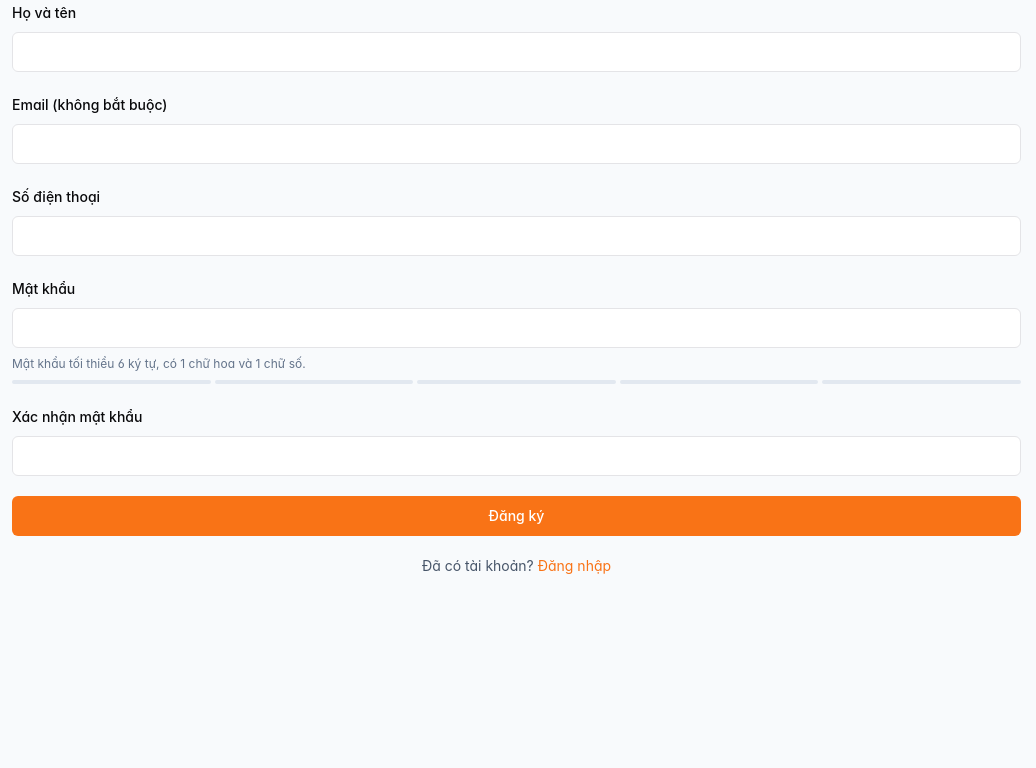
auth forms › shows invalid register phone inline and clears it when corrected
The width and height of the screenshot is (1036, 768).
In the field labelled "Số điện thoại": (516, 236) [12,216,1021,256], type "123"
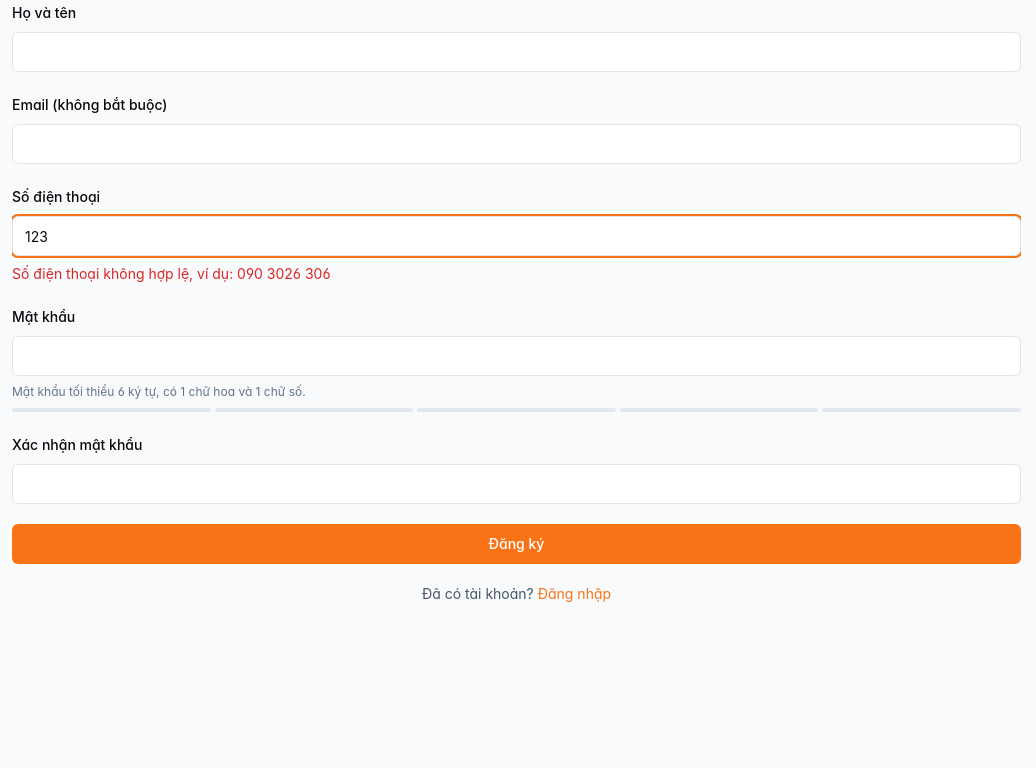
Press Tab
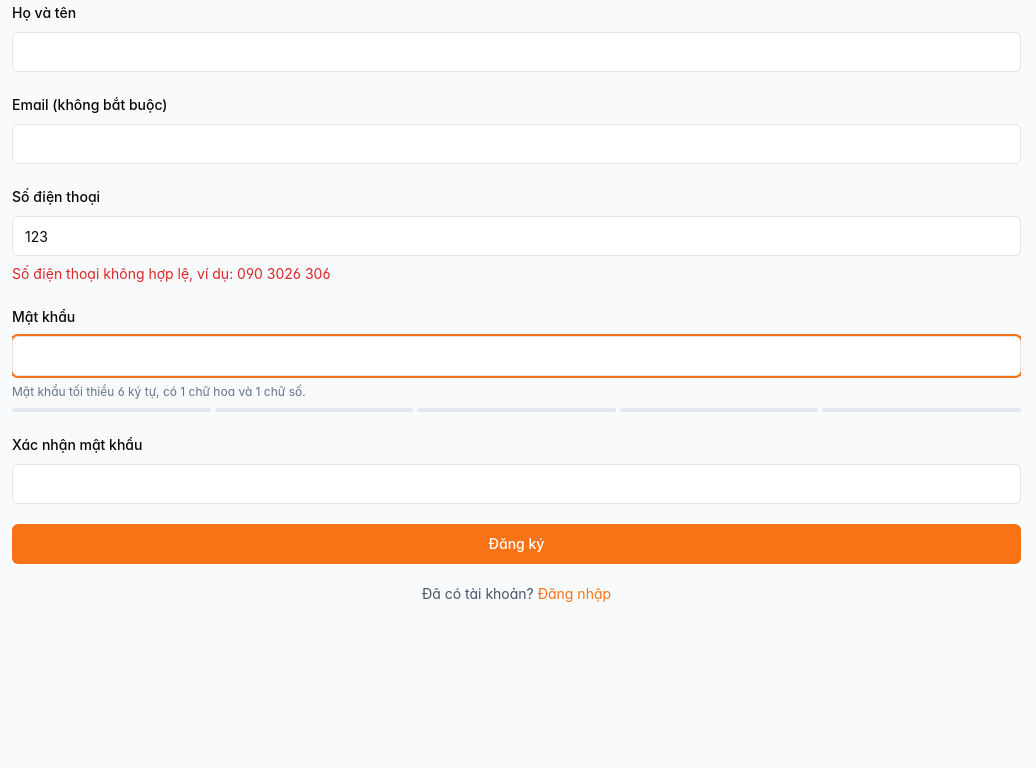
Now the text "Số điện thoại không hợp lệ, ví dụ: 090 3026 306" is shown, box [12,265,331,282]
Replace the text in the field labelled "Số điện thoại" with "0903026306": (516, 236) [12,216,1021,256]
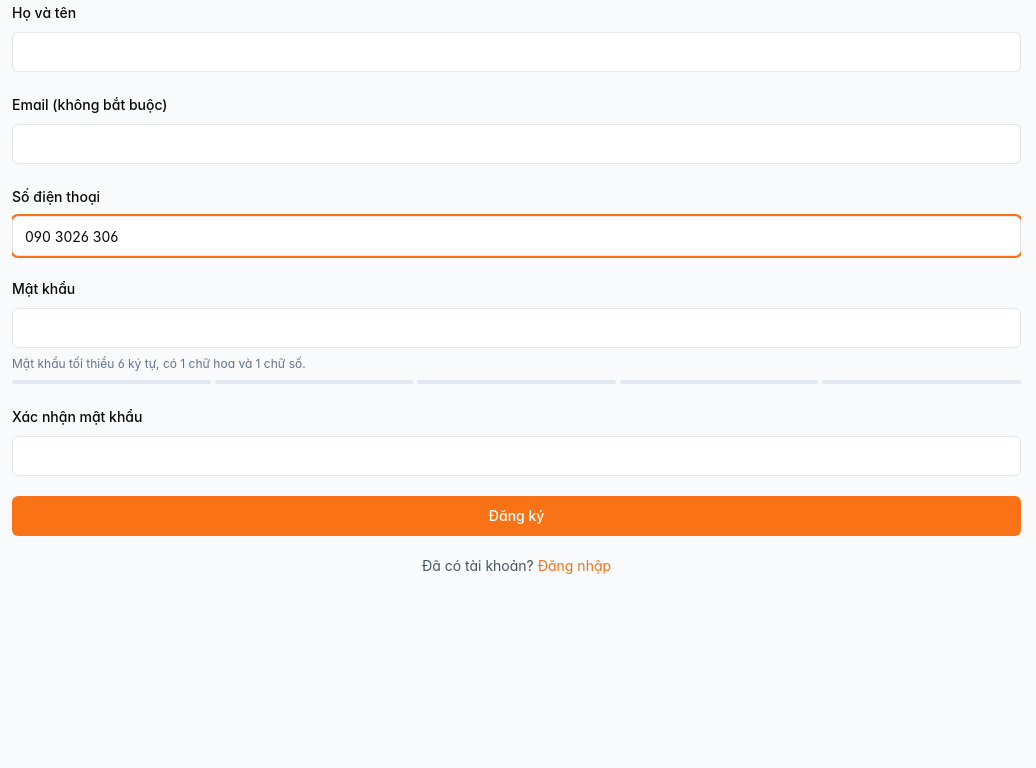
Now the text "Số điện thoại không hợp lệ, ví dụ: 090 3026 306" is gone
